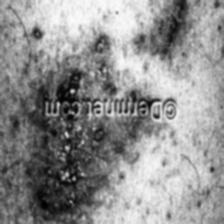Toxin: (55, 127, 84, 194), (58, 68, 80, 94)
